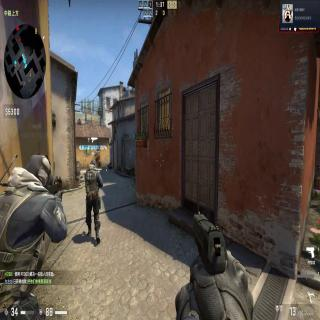CT-Body: (85, 159, 104, 245)
CT-Head: (26, 153, 54, 187), (90, 160, 96, 167)
